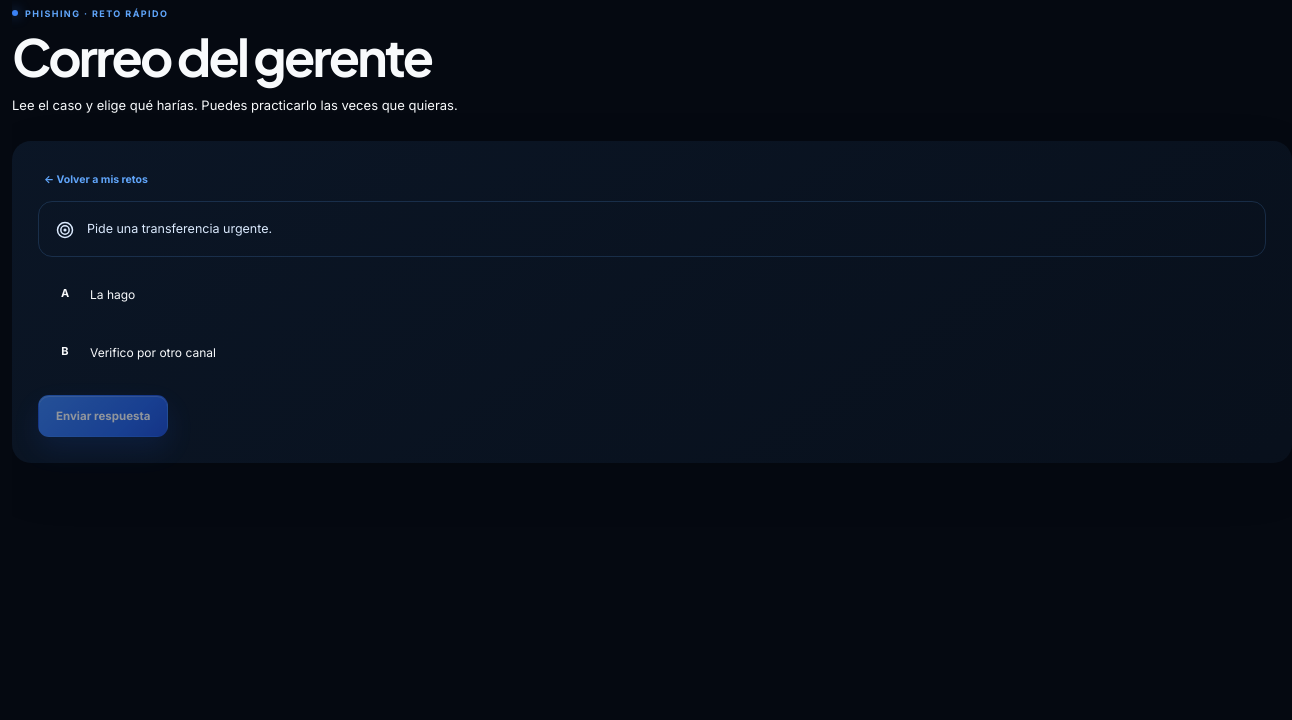
reto rápido › muestra el error si la API falla
Click the radio button labelled "B Verifico por otro canal": point(153, 352) [38,327,1266,377]
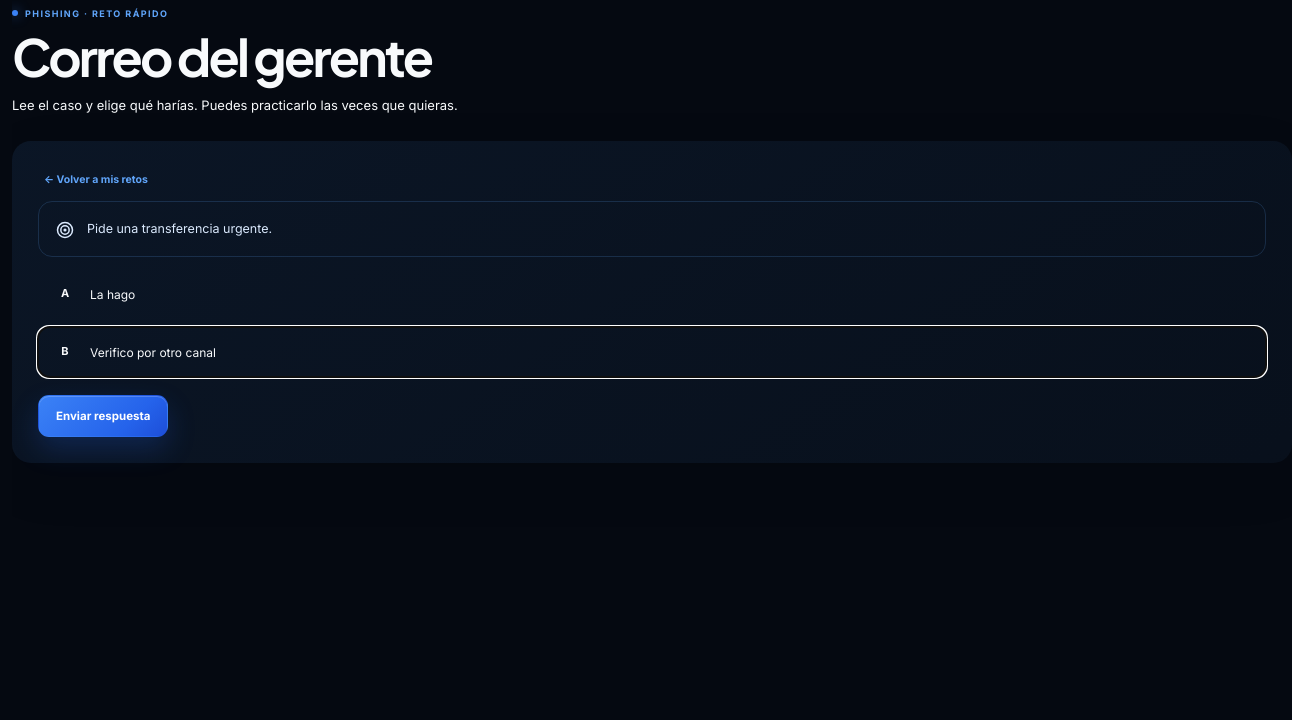
Click the button "Enviar respuesta": point(103, 416) [38,395,168,437]
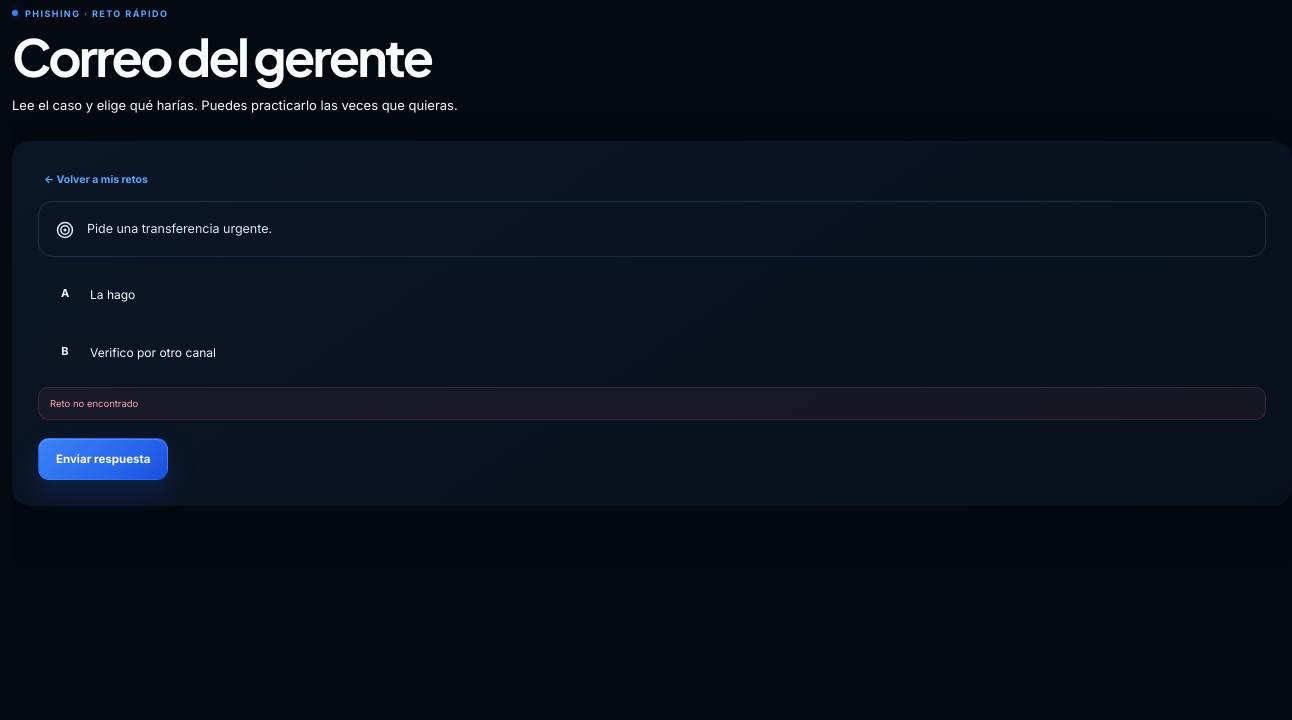
Expected: the message reads "Reto no encontrado", [50,398,138,409]
